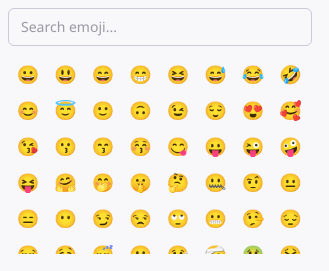
Test case: EmojiPickerComponent › shows 'No emoji found' when search has no results
Step 1. Type "invalid_emoji" into the field with placeholder "Search emoji..." → (160, 27), box left=8, top=8, right=312, bottom=46
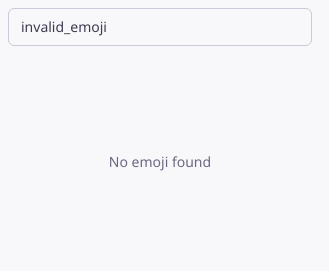
Check: the text "No emoji found" is shown, box left=109, top=152, right=211, bottom=171
